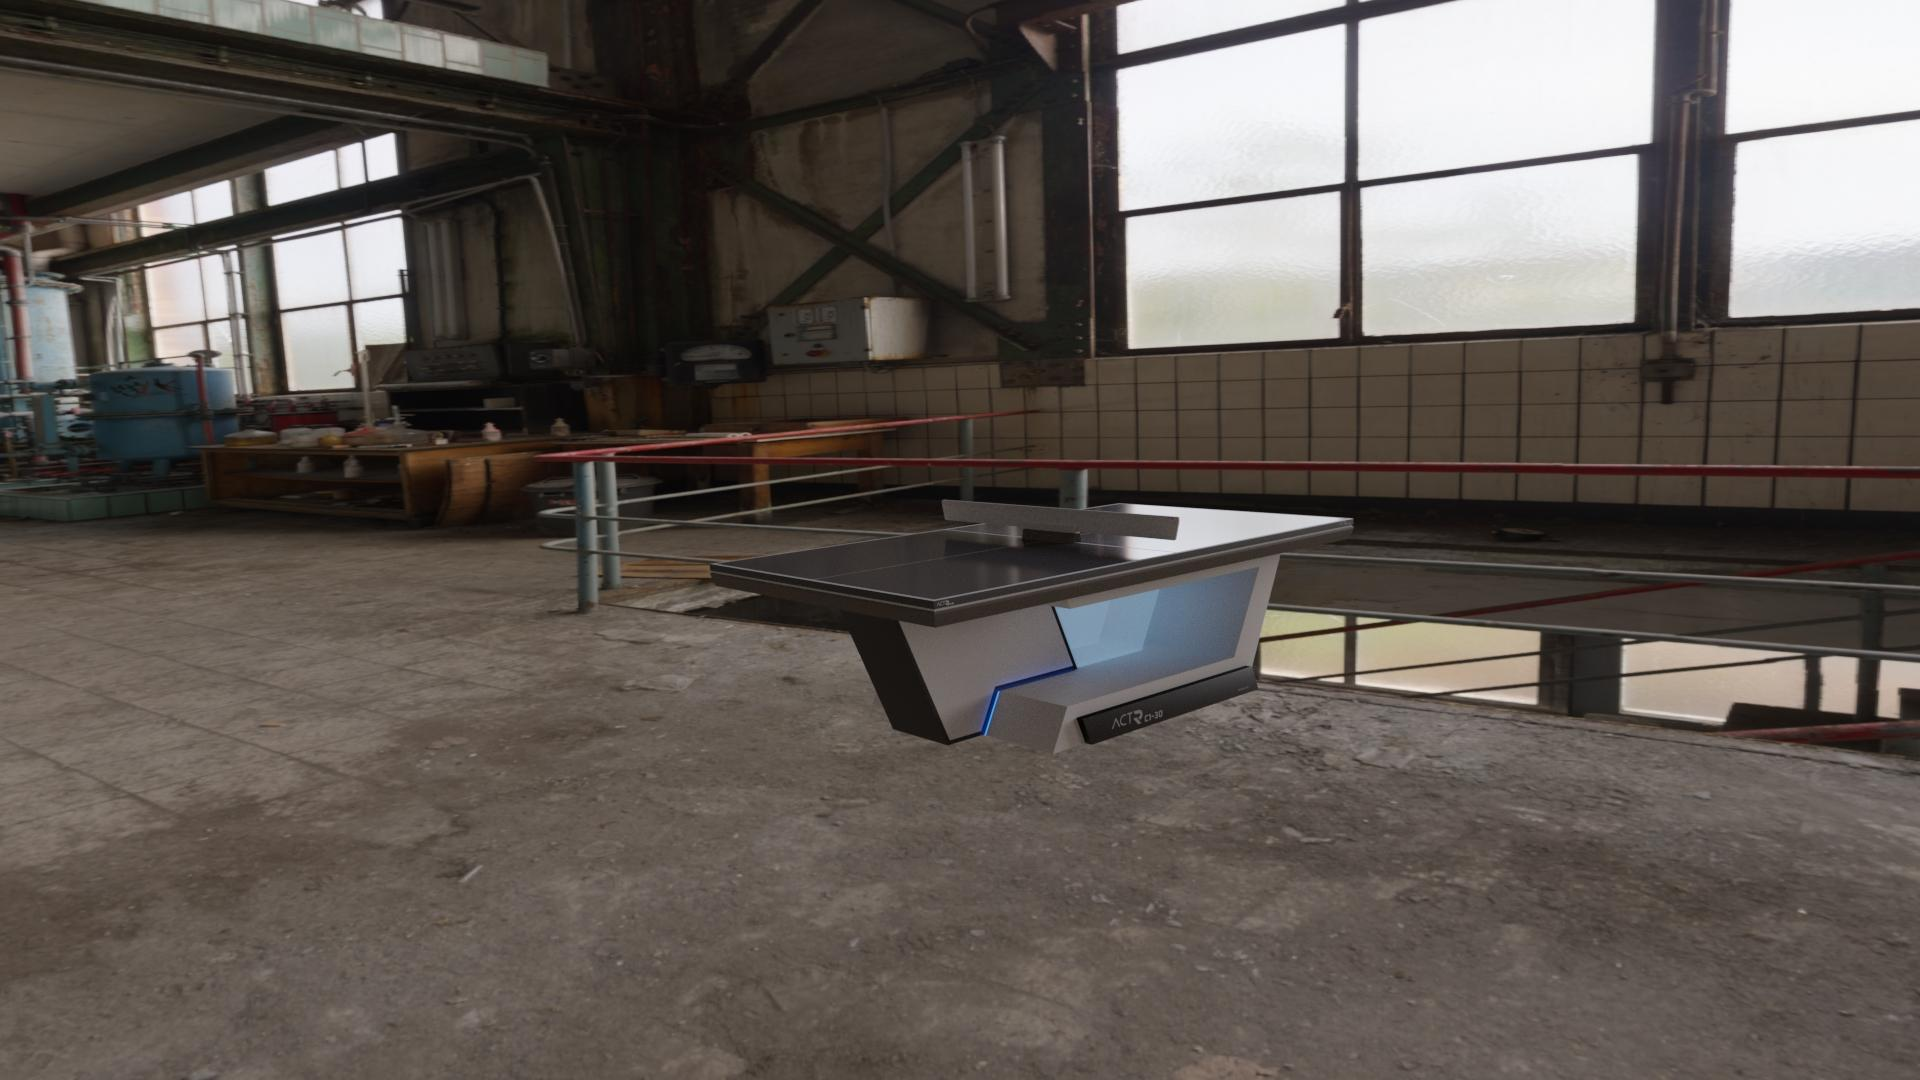table: (716, 504, 1348, 600)
